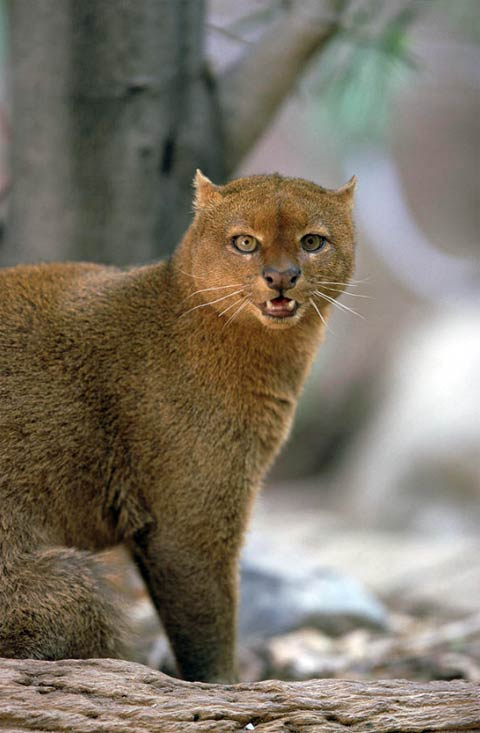Jaguarundi: (10, 163, 364, 679)
